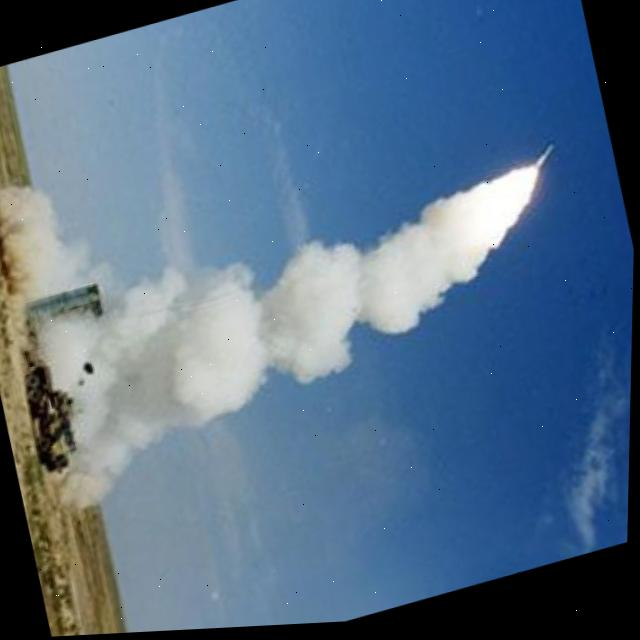missile: (530, 138, 564, 175)
